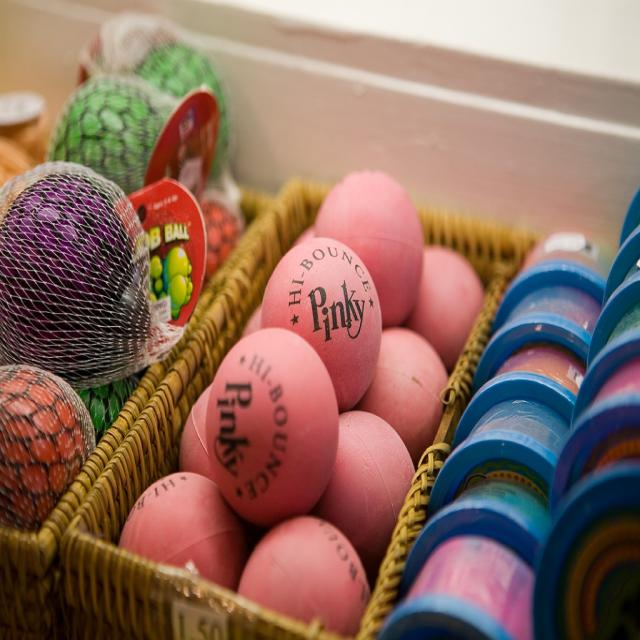Ball: (0, 10, 484, 639)
